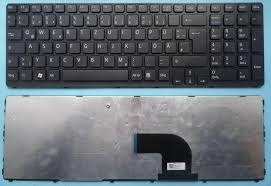keyboard: (4, 0, 266, 90)
